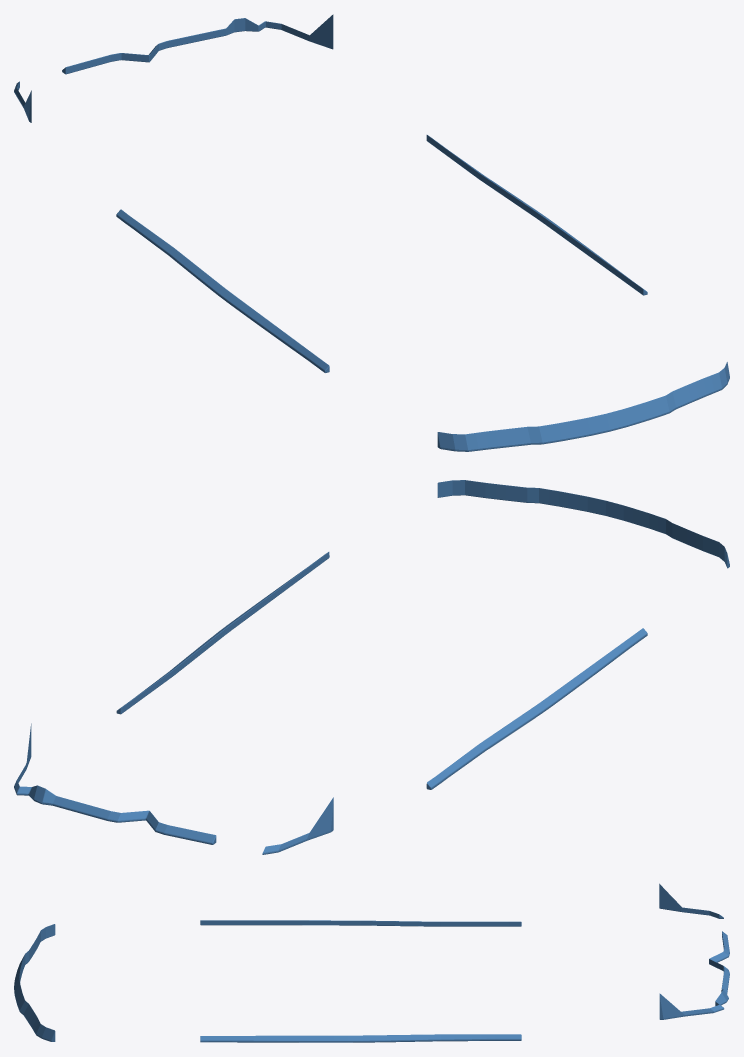
File: bmw_e36-kit1.glb
The picture shows the model from 3 angles, top to bottom: view 1: azimuth 30°, elevation 25°; view 2: azimuth 150°, elevation 25°; view 3: azimuth 270°, elevation 25°; orthographic projection. The views are drawn at different scales.
Parts seen in each view (by area): view 1: FRONT_VALANCE_1_0, SKIRT_L_1, REAR_VALANCE_1_1, SKIRT_R_1; view 2: FRONT_VALANCE_1_0, SKIRT_L_1, REAR_VALANCE_1_1, SKIRT_R_1, REAR_VALANCE_1_0; view 3: SKIRT_R_1, SKIRT_L_1, FRONT_VALANCE_1_0, REAR_VALANCE_1_1, REAR_VALANCE_1_0.
Part boxes in pixels (<box>): FRONT_VALANCE_1_0: <box>437,362,729,451</box>; SKIRT_L_1: <box>116,209,329,372</box>; REAR_VALANCE_1_1: <box>62,14,333,74</box>; SKIRT_R_1: <box>426,135,647,295</box>; FRONT_VALANCE_1_0: <box>437,480,729,568</box>; SKIRT_L_1: <box>426,628,647,789</box>; REAR_VALANCE_1_1: <box>14,723,216,844</box>; SKIRT_R_1: <box>116,552,329,714</box>; REAR_VALANCE_1_0: <box>262,797,333,854</box>; SKIRT_R_1: <box>200,1034,521,1042</box>; SKIRT_L_1: <box>200,920,521,926</box>; FRONT_VALANCE_1_0: <box>14,924,55,1041</box>; REAR_VALANCE_1_1: <box>659,931,729,1019</box>; REAR_VALANCE_1_0: <box>659,883,723,918</box>.
Size of the model in its own units: 1.71 by 0.3435 by 4.33.
